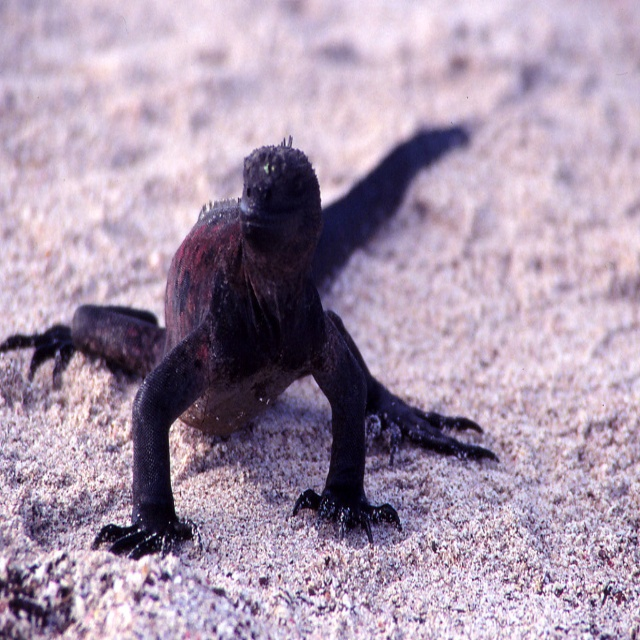Lizard: (0, 110, 487, 559)
